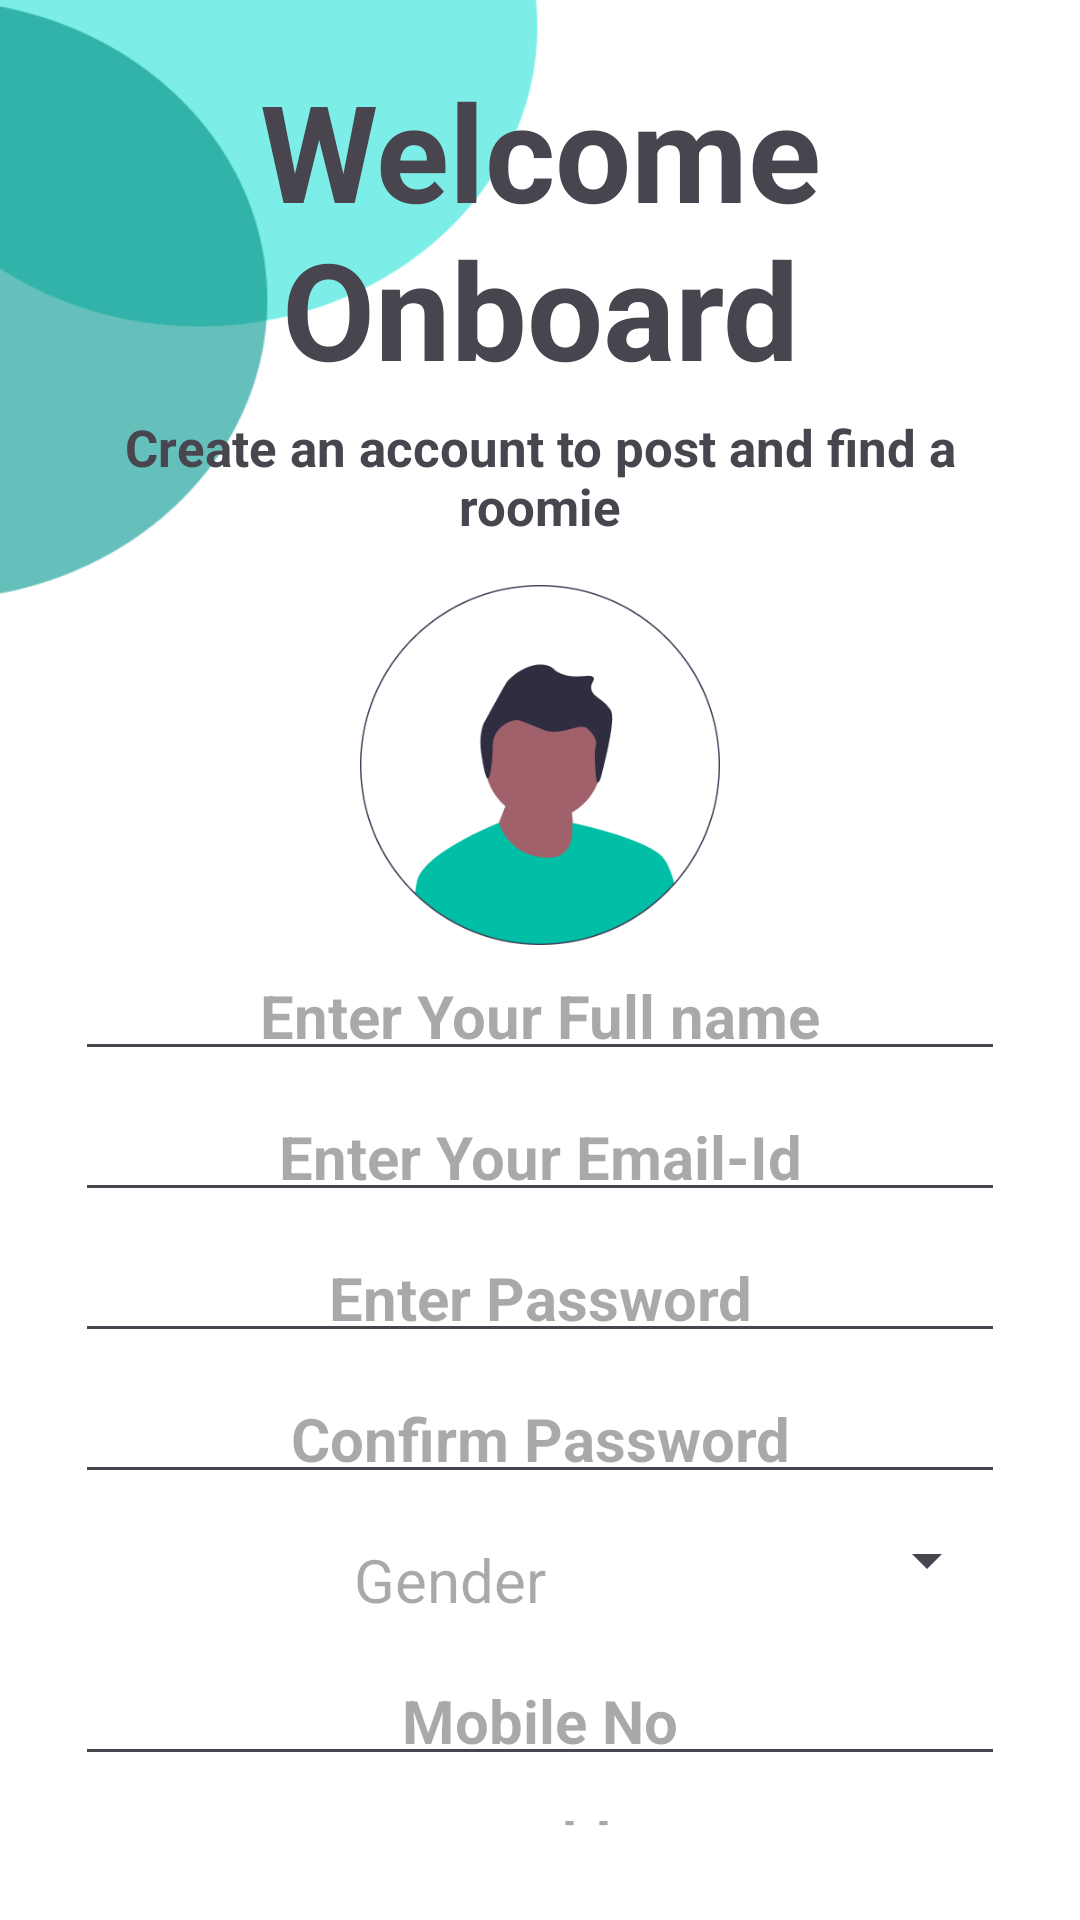

Icons on this 1080×1920 Android screen, each with the point to tap as point (x, y):
userprofile: point (540, 765)
